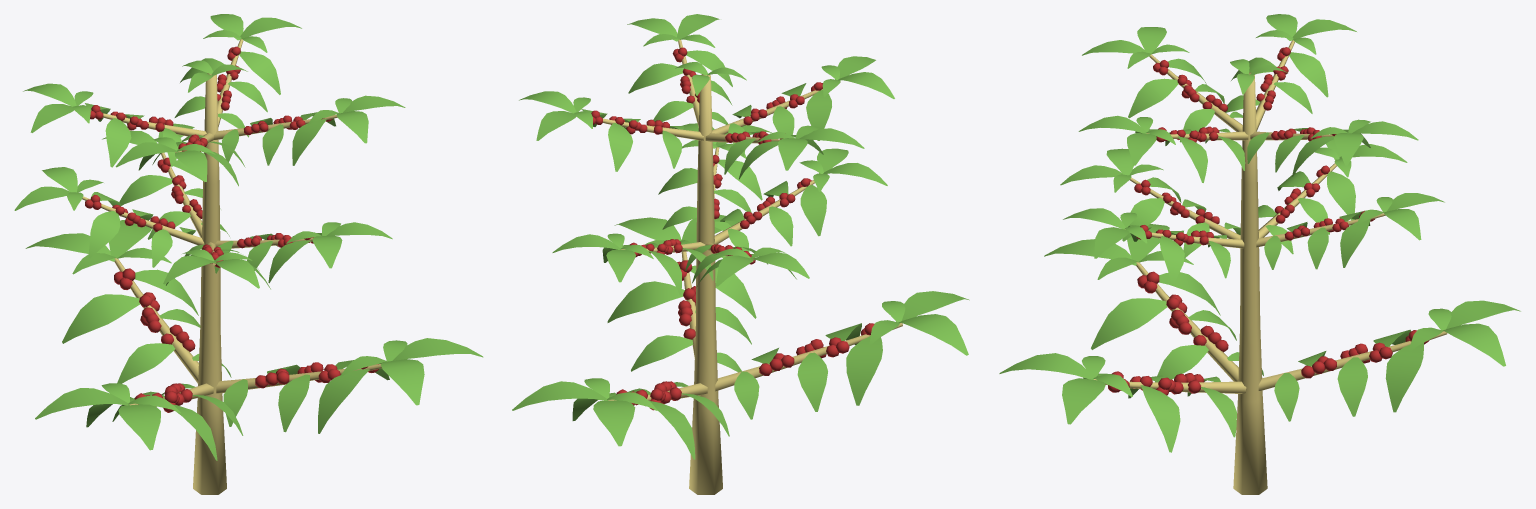
File: model_madurocafe_01.fbx
3 views of the same model, side by side, from view 1: azimuth 30°, elevation 25°; view 2: azimuth 150°, elevation 25°; view 3: azimuth 270°, elevation 25° (orthographic).
Parts seen in each view (by area): view 1: NurbsPath.016; view 2: NurbsPath.016; view 3: NurbsPath.016.
Part boxes in pixels (<box>): NurbsPath.016: <box>14,14,483,494</box>; NurbsPath.016: <box>512,14,969,494</box>; NurbsPath.016: <box>999,14,1520,494</box>.
Size of the model in its own units: 0.7506 by 0.7485 by 0.8442.
